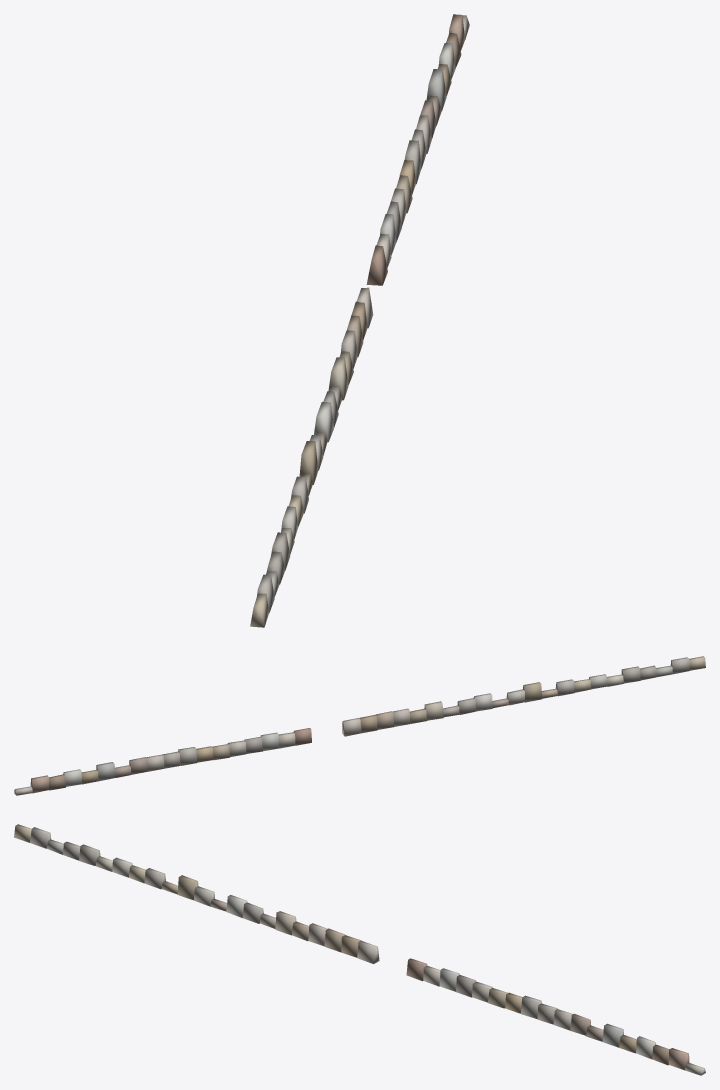
File: farm_13_15_far.glb
3 views of the same model, one above another, from view 1: azimuth 30°, elevation 25°; view 2: azimuth 150°, elevation 25°; view 3: azimuth 270°, elevation 25° (orthographic). The views are drawn at different scales.
Visible parts, largest first — view 1: geometry_0; view 2: geometry_0; view 3: geometry_0.
Boxes of the visible parts, left/top/right/bottom form: geometry_0: left=250, top=14, right=469, bottom=627; geometry_0: left=14, top=656, right=705, bottom=795; geometry_0: left=14, top=824, right=705, bottom=1075.
Bounding box in the file's own units: 41.6 × 2.21 × 53.08.
